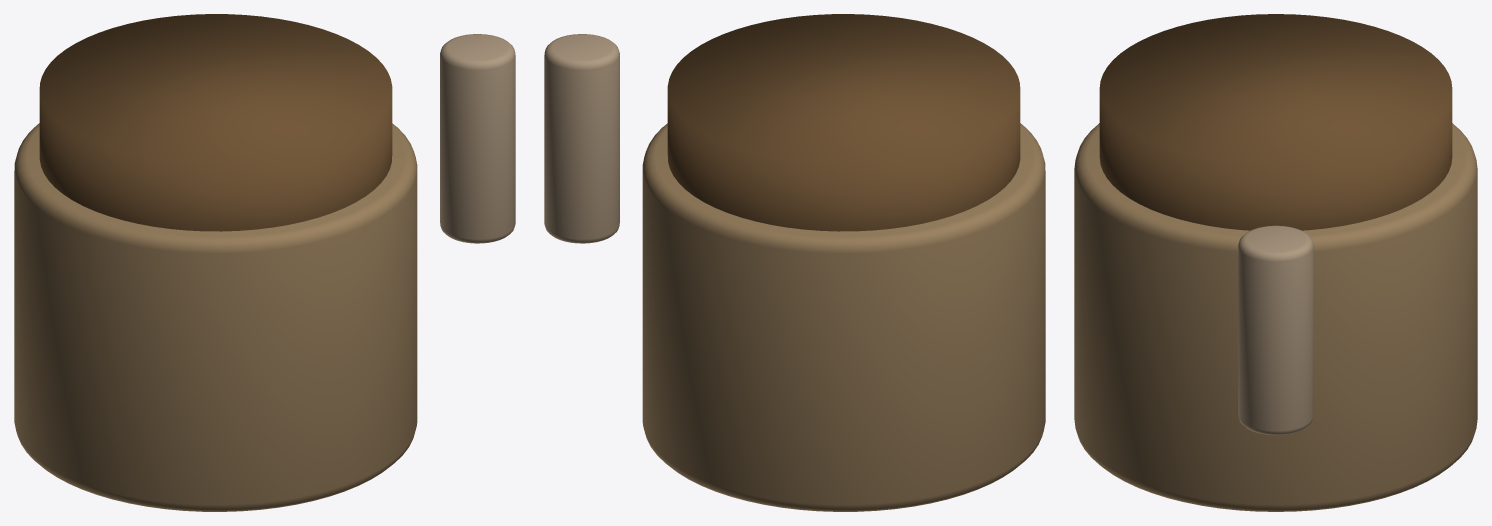
3 renders of one model, left to right at view 1: azimuth 30°, elevation 25°; view 2: azimuth 150°, elevation 25°; view 3: azimuth 270°, elevation 25°, orthographic.
Parts seen in each view (by area): view 1: Cup, Liquid, Handle; view 2: Cup, Liquid, Handle; view 3: Cup, Liquid, Handle.
Part boxes in pixels (bbox=[...]): Cup: bbox=[14, 123, 417, 511]; Liquid: bbox=[39, 14, 392, 231]; Handle: bbox=[440, 34, 515, 243]; Cup: bbox=[642, 123, 1045, 511]; Liquid: bbox=[667, 14, 1020, 231]; Handle: bbox=[544, 34, 619, 243]; Cup: bbox=[1074, 123, 1477, 511]; Liquid: bbox=[1099, 14, 1452, 230]; Handle: bbox=[1238, 225, 1313, 435].
Size of the model in its own units: 0.215 by 0.15 by 0.16.
